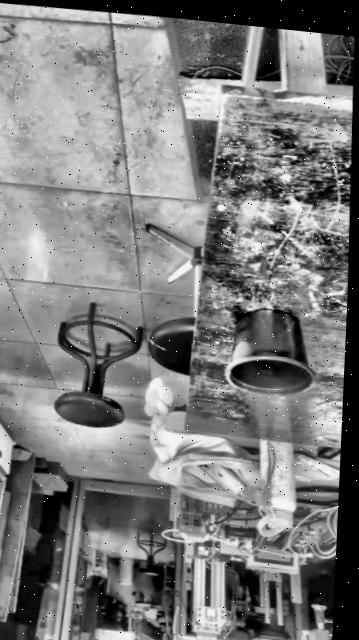pot: (225, 304, 317, 401), (51, 391, 124, 432)
